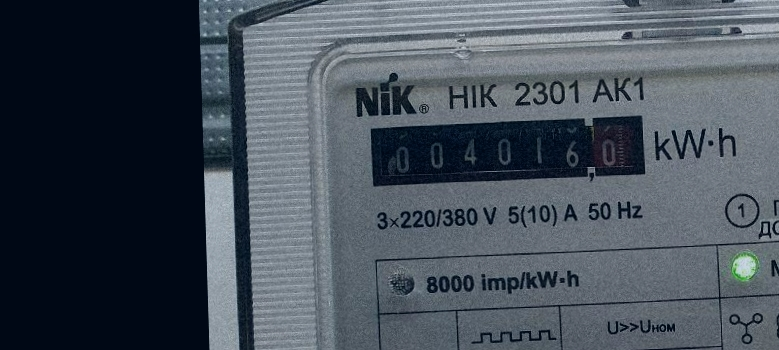0: (493, 133, 515, 169), (391, 141, 413, 175), (426, 137, 446, 172), (597, 135, 618, 168)
1: (531, 131, 547, 166)
4: (460, 133, 479, 168)
6: (561, 135, 581, 168)
screen: (362, 108, 653, 194)
